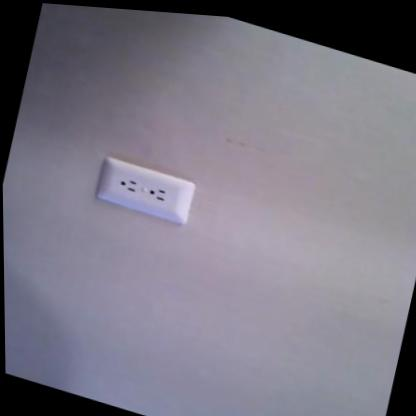OUTLET: (93, 152, 198, 227)
